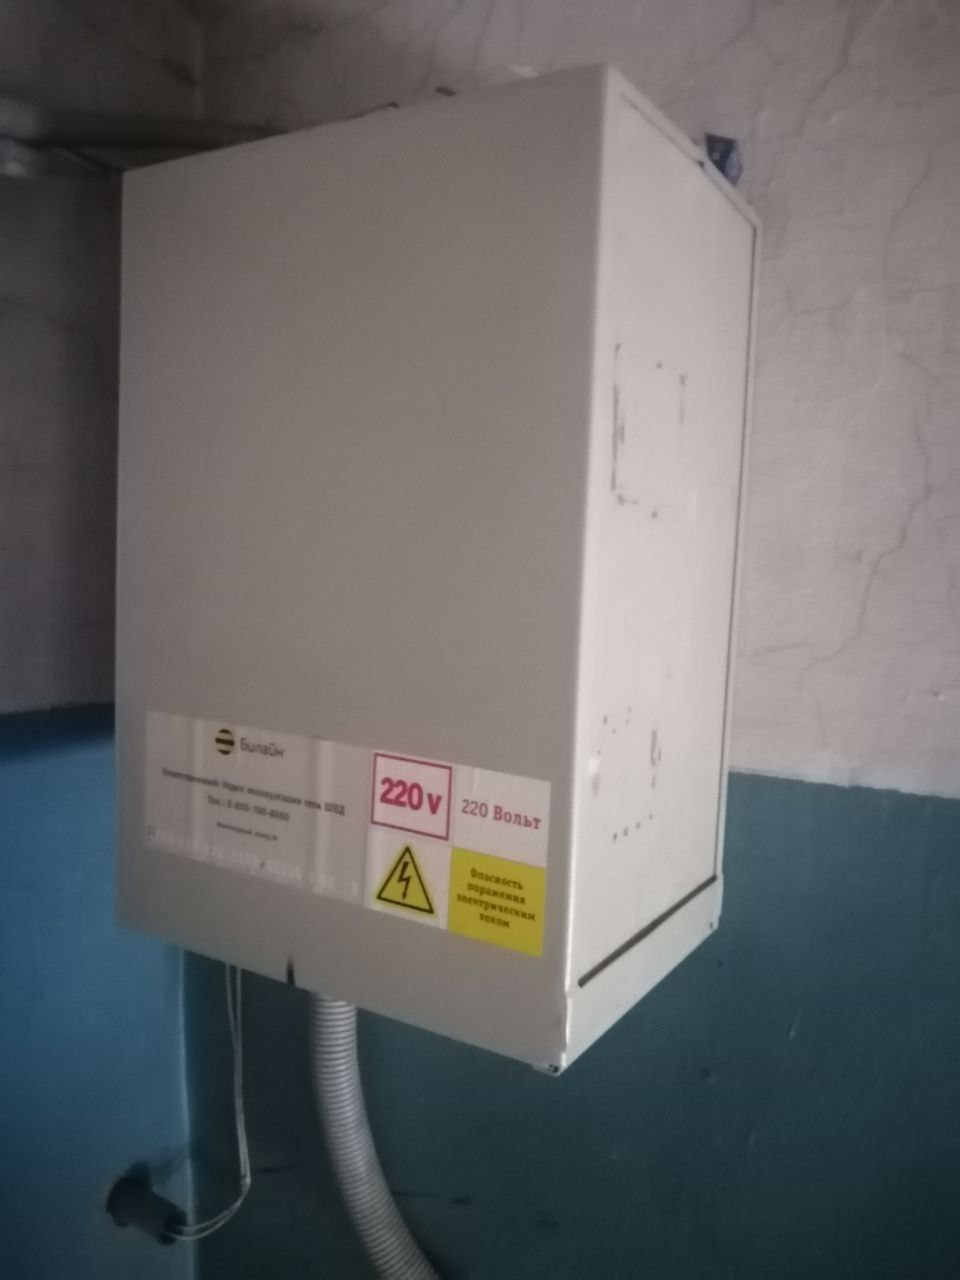sv-5: (101, 50, 772, 1085)
